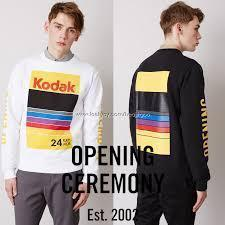sweater: (126, 47, 210, 195), (5, 54, 101, 183)
